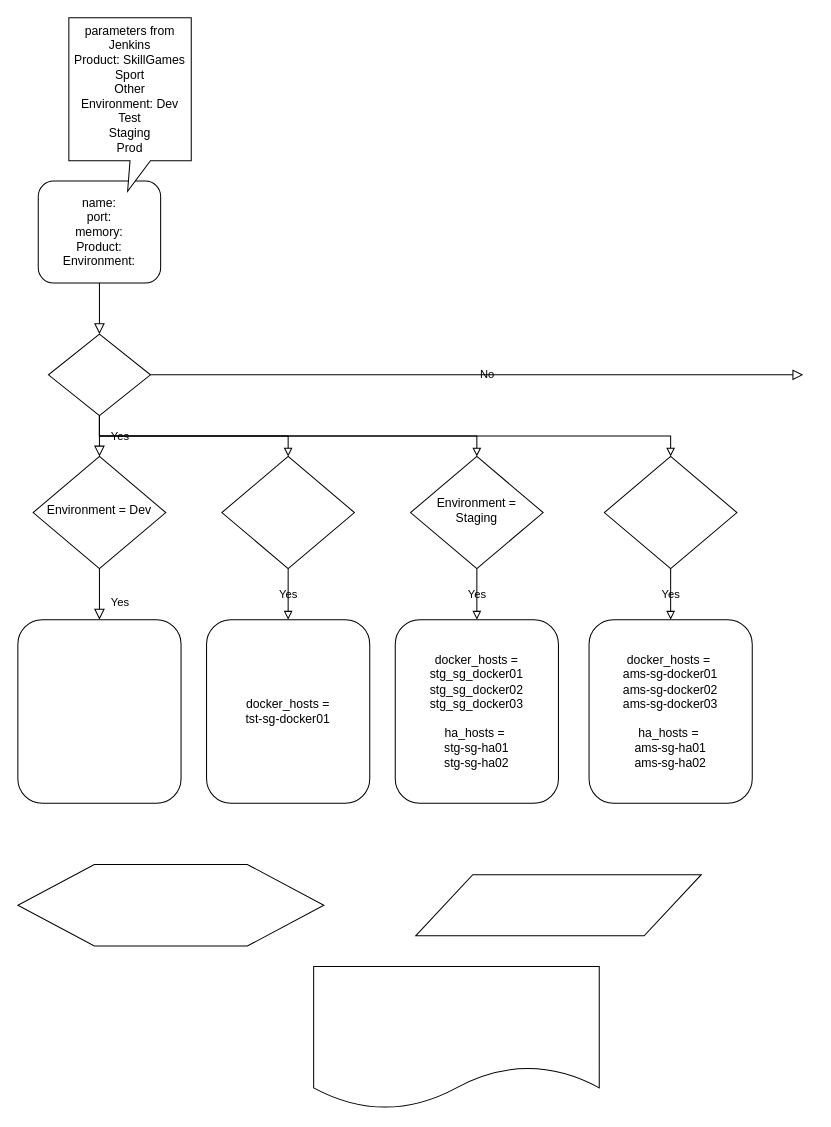
Some shapes in this 831 by 1127 pixel diagram are drawn without their labels. The box of each missing label's shape, as (x1, y1, x2, y2) in pixels:
docker_hosts = dev-sg-docker01: (17, 619, 181, 803)
Environment = Prod: (603, 455, 737, 569)
Environment = Test: (221, 455, 354, 569)
Product = SkillGames: (47, 333, 150, 416)
